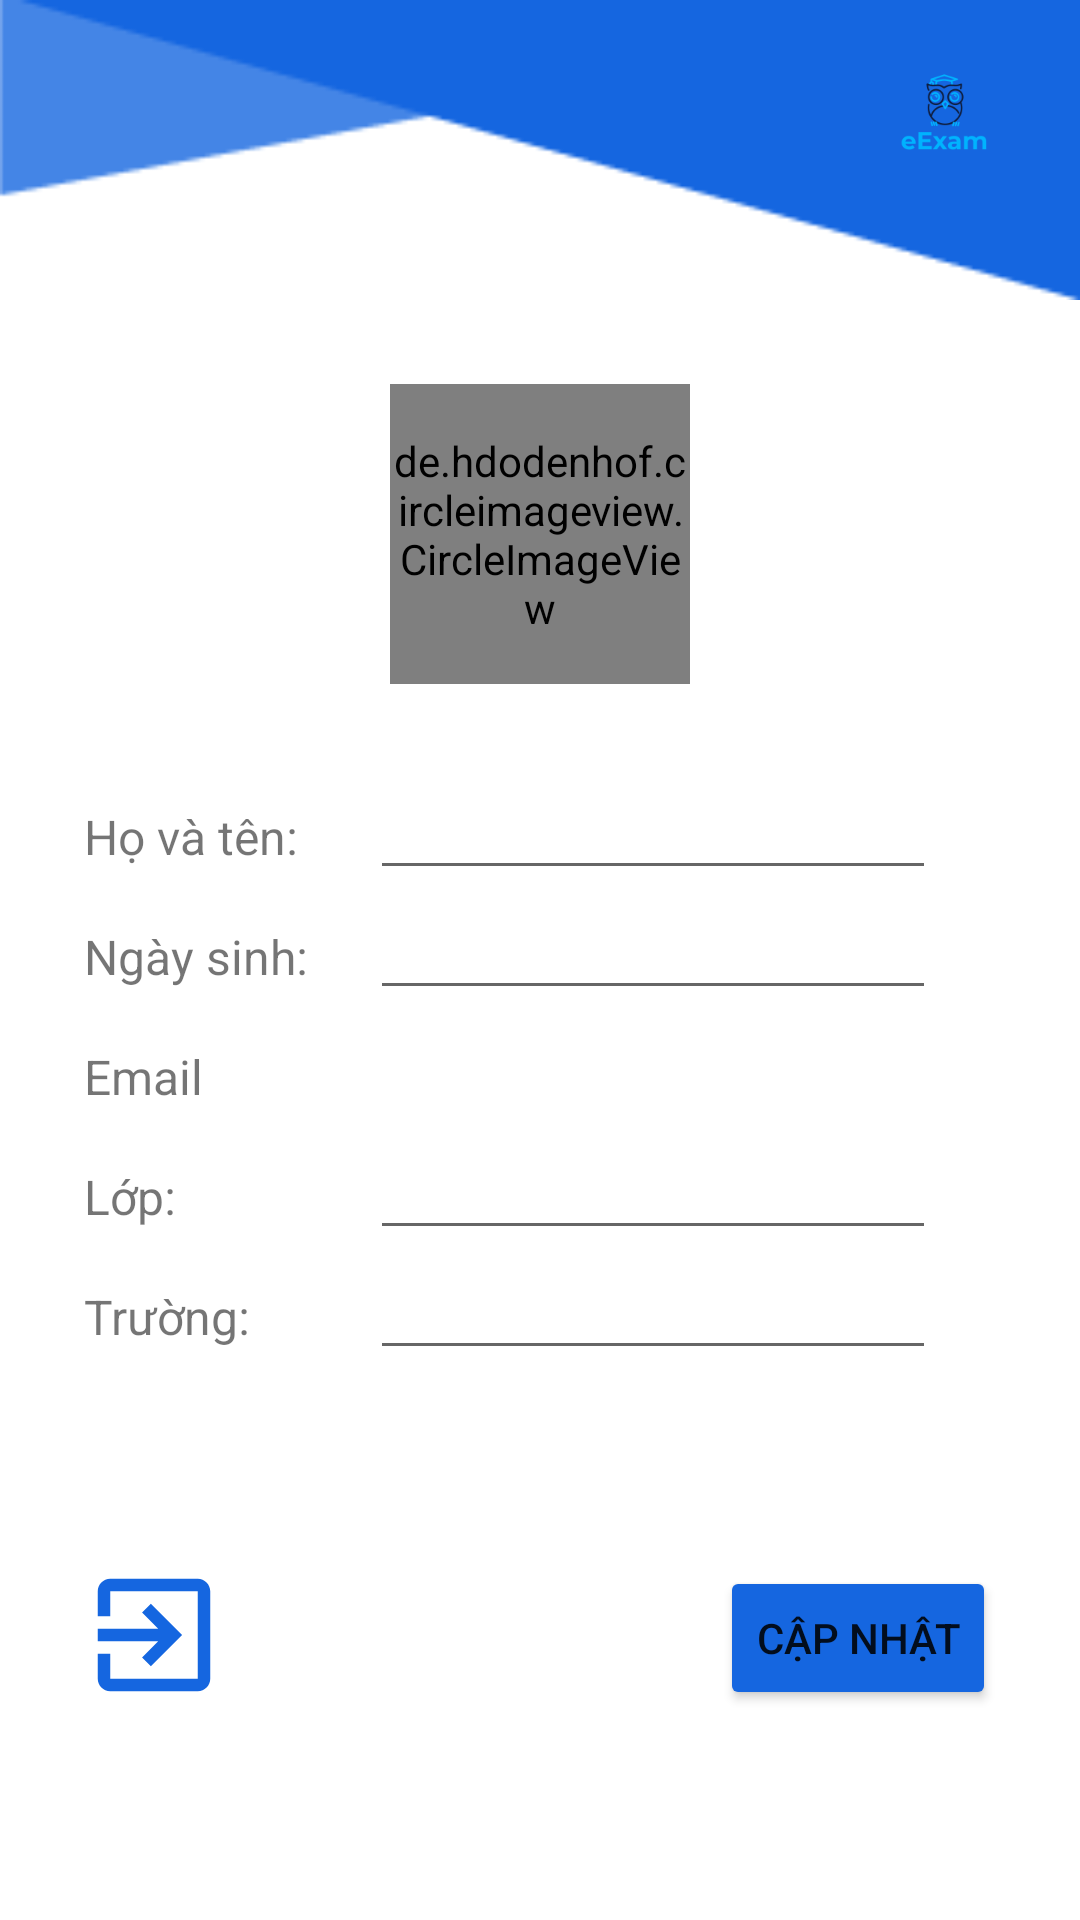

Screen size 1080x1920. Icon name, then its center in pixels as point (x, y):
exit: point (154, 1635)
